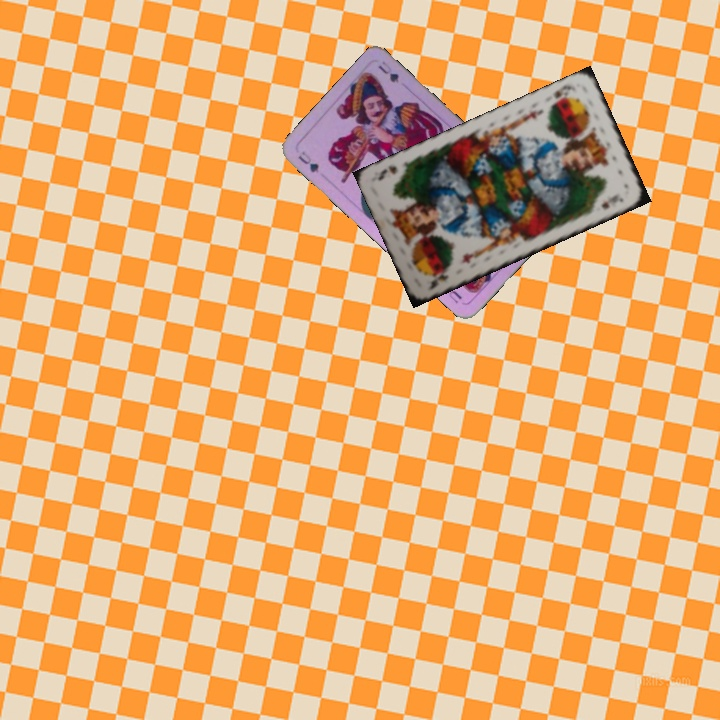GU: (294, 147, 322, 176)
SK: (546, 81, 578, 109), (423, 268, 451, 293)
